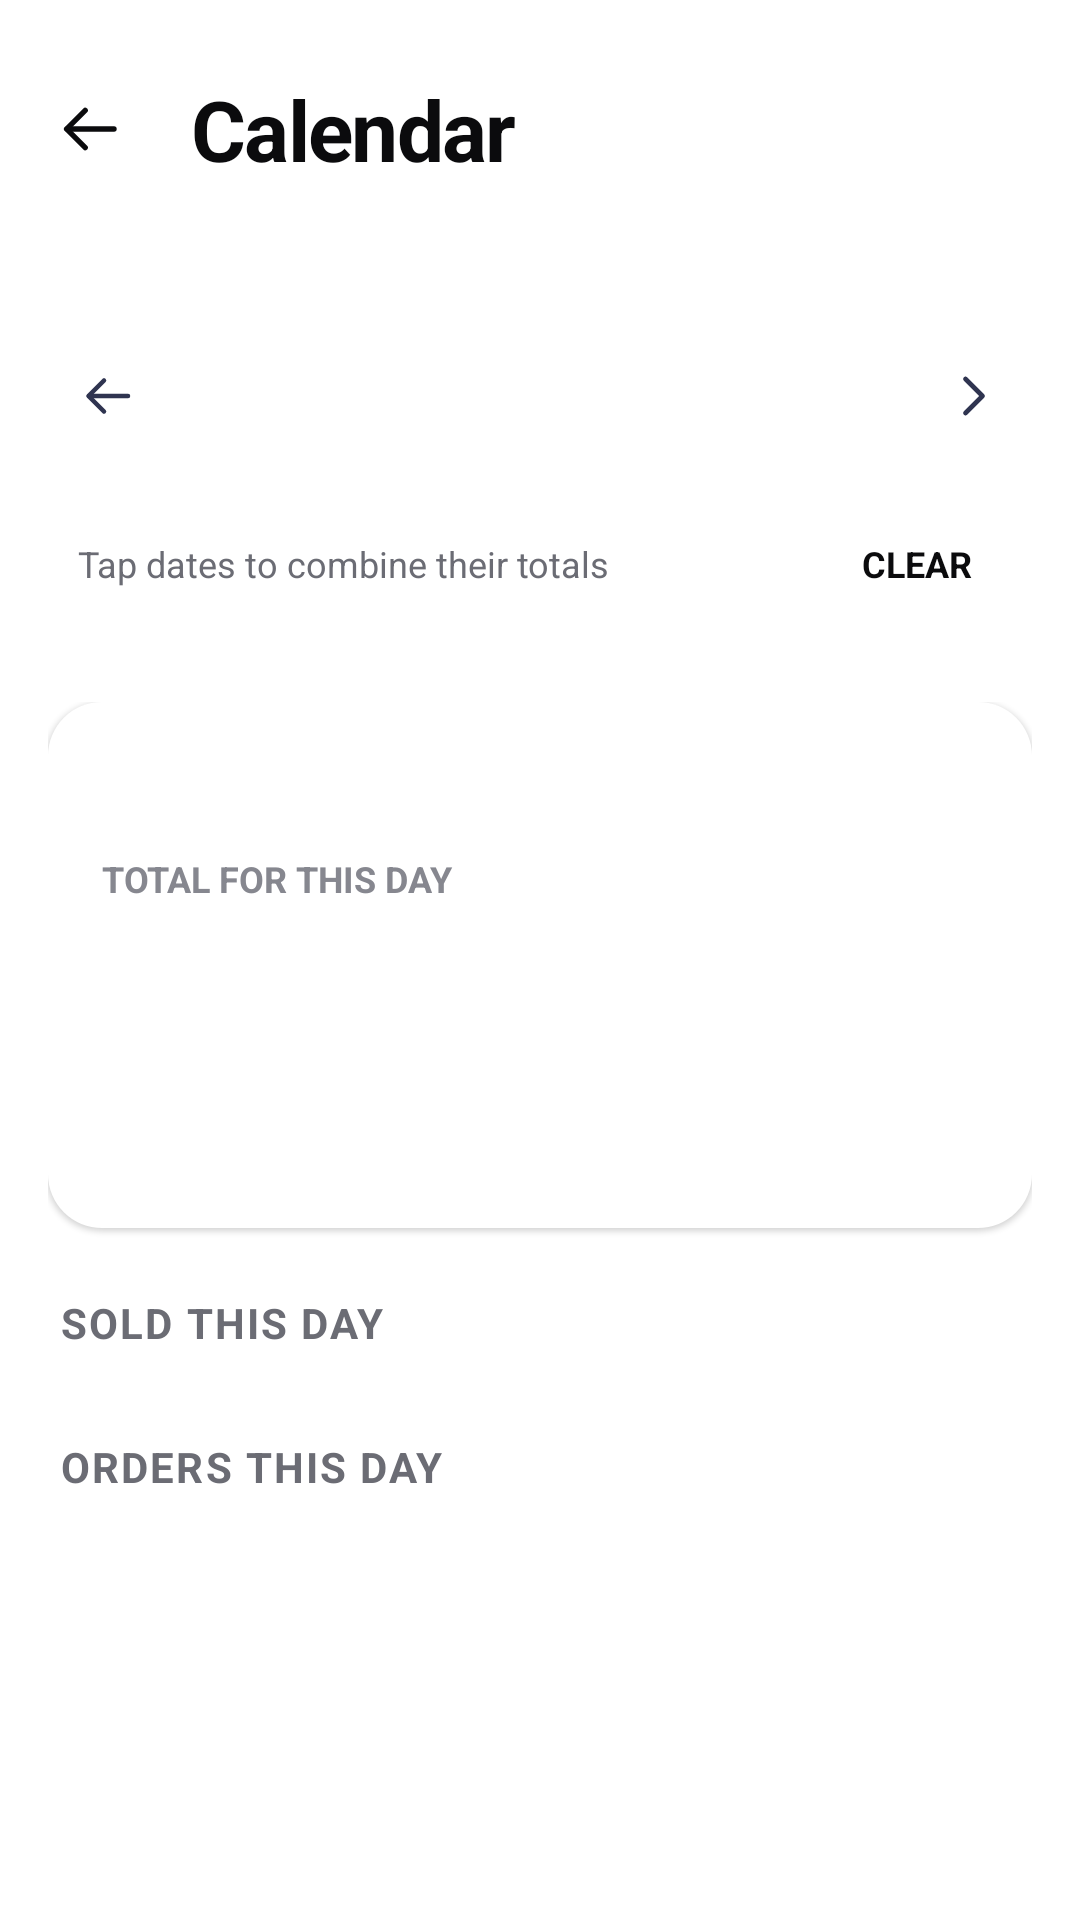

Icon bounding boxes for this 1080w x 1920h phone screenshot, format bbox(x1, y1, x2, y2):
back: bbox(63, 107, 117, 151), bbox(86, 378, 130, 414)
chevron: bbox(963, 376, 985, 416)
